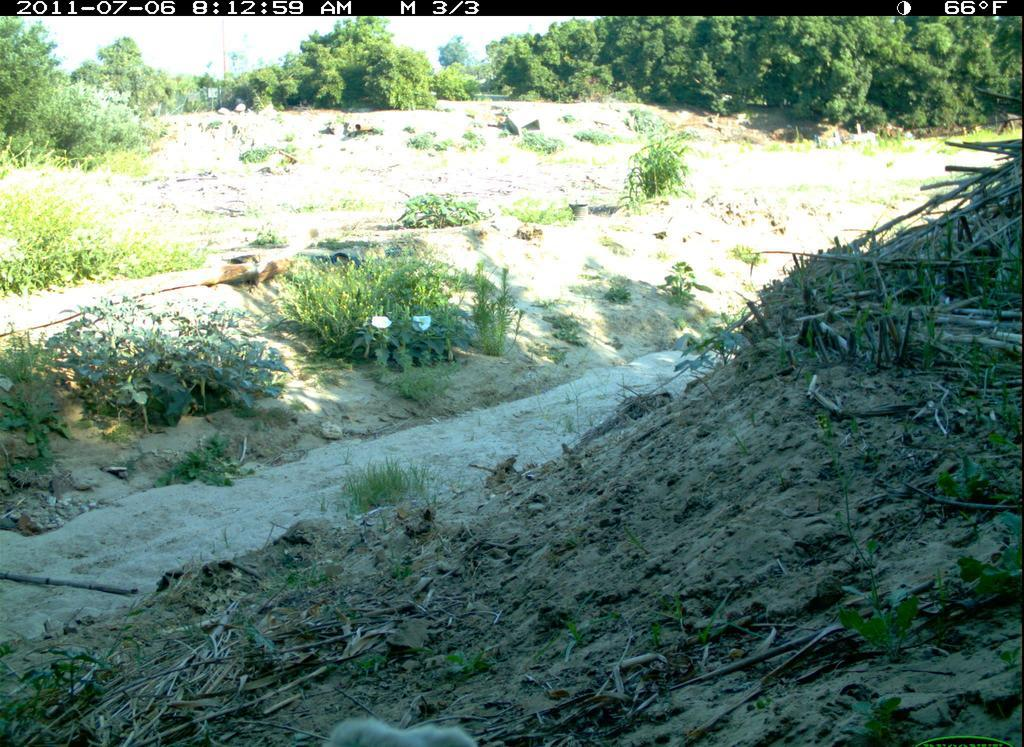dog: (289, 698, 497, 745)
